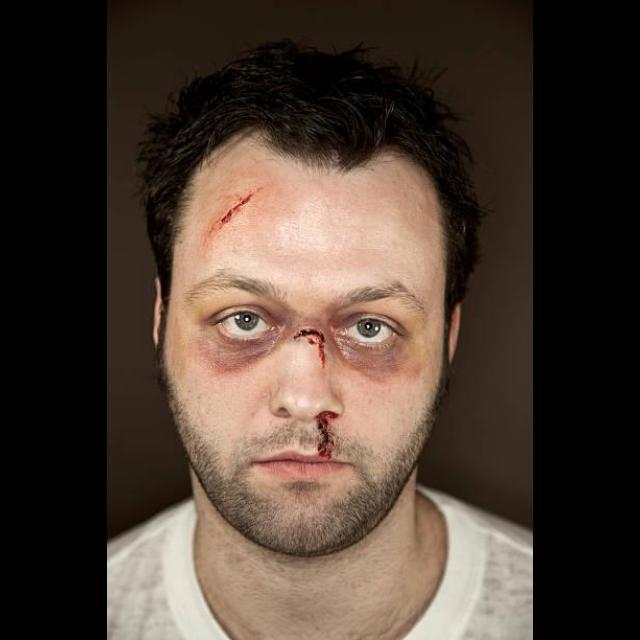blood: (207, 187, 264, 238), (294, 329, 326, 364), (316, 412, 339, 460)
